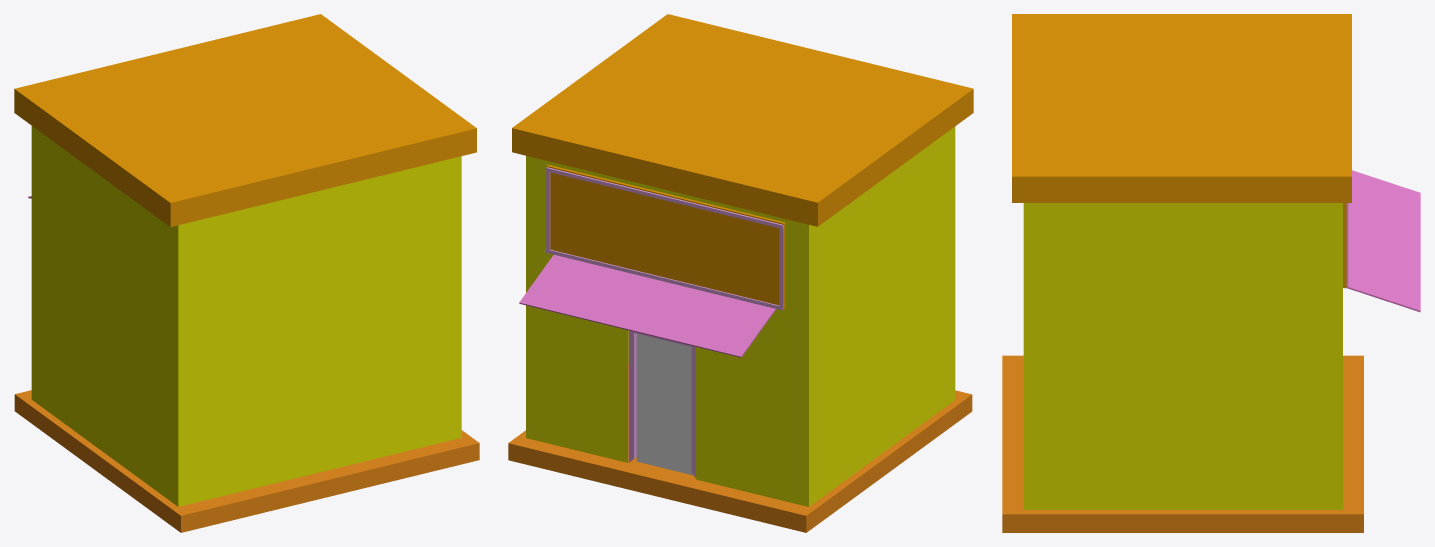
Rendered from doughnutshop.fbx.
3 renders of one model, left to right at view 1: azimuth 30°, elevation 25°; view 2: azimuth 150°, elevation 25°; view 3: azimuth 270°, elevation 25°, orthographic. The views are drawn at different scales.
Visible parts, largest first — view 1: Building, Roof, Floor; view 2: Building, Roof, Sign, Top Curtains, Floor, Door, DoorEdges, SignEdgeTop, SignEdgeBottom; view 3: Building, Roof, Floor, Top Curtains.
Boxes of the visible parts, x1,y1,x2,y2 form: Building: [31, 126, 461, 506]; Roof: [14, 14, 476, 226]; Floor: [14, 390, 479, 532]; Building: [526, 126, 955, 506]; Roof: [512, 14, 973, 226]; Sign: [546, 164, 785, 309]; Top Curtains: [519, 255, 776, 357]; Floor: [508, 363, 972, 532]; Door: [636, 333, 692, 475]; DoorEdges: [628, 330, 695, 477]; SignEdgeTop: [546, 167, 783, 228]; SignEdgeBottom: [546, 249, 783, 310]; Building: [1023, 203, 1342, 509]; Roof: [1012, 14, 1351, 202]; Floor: [1002, 355, 1363, 532]; Top Curtains: [1348, 170, 1420, 312].
Size of the model in its own units: 1088 by 1113 by 1182.
